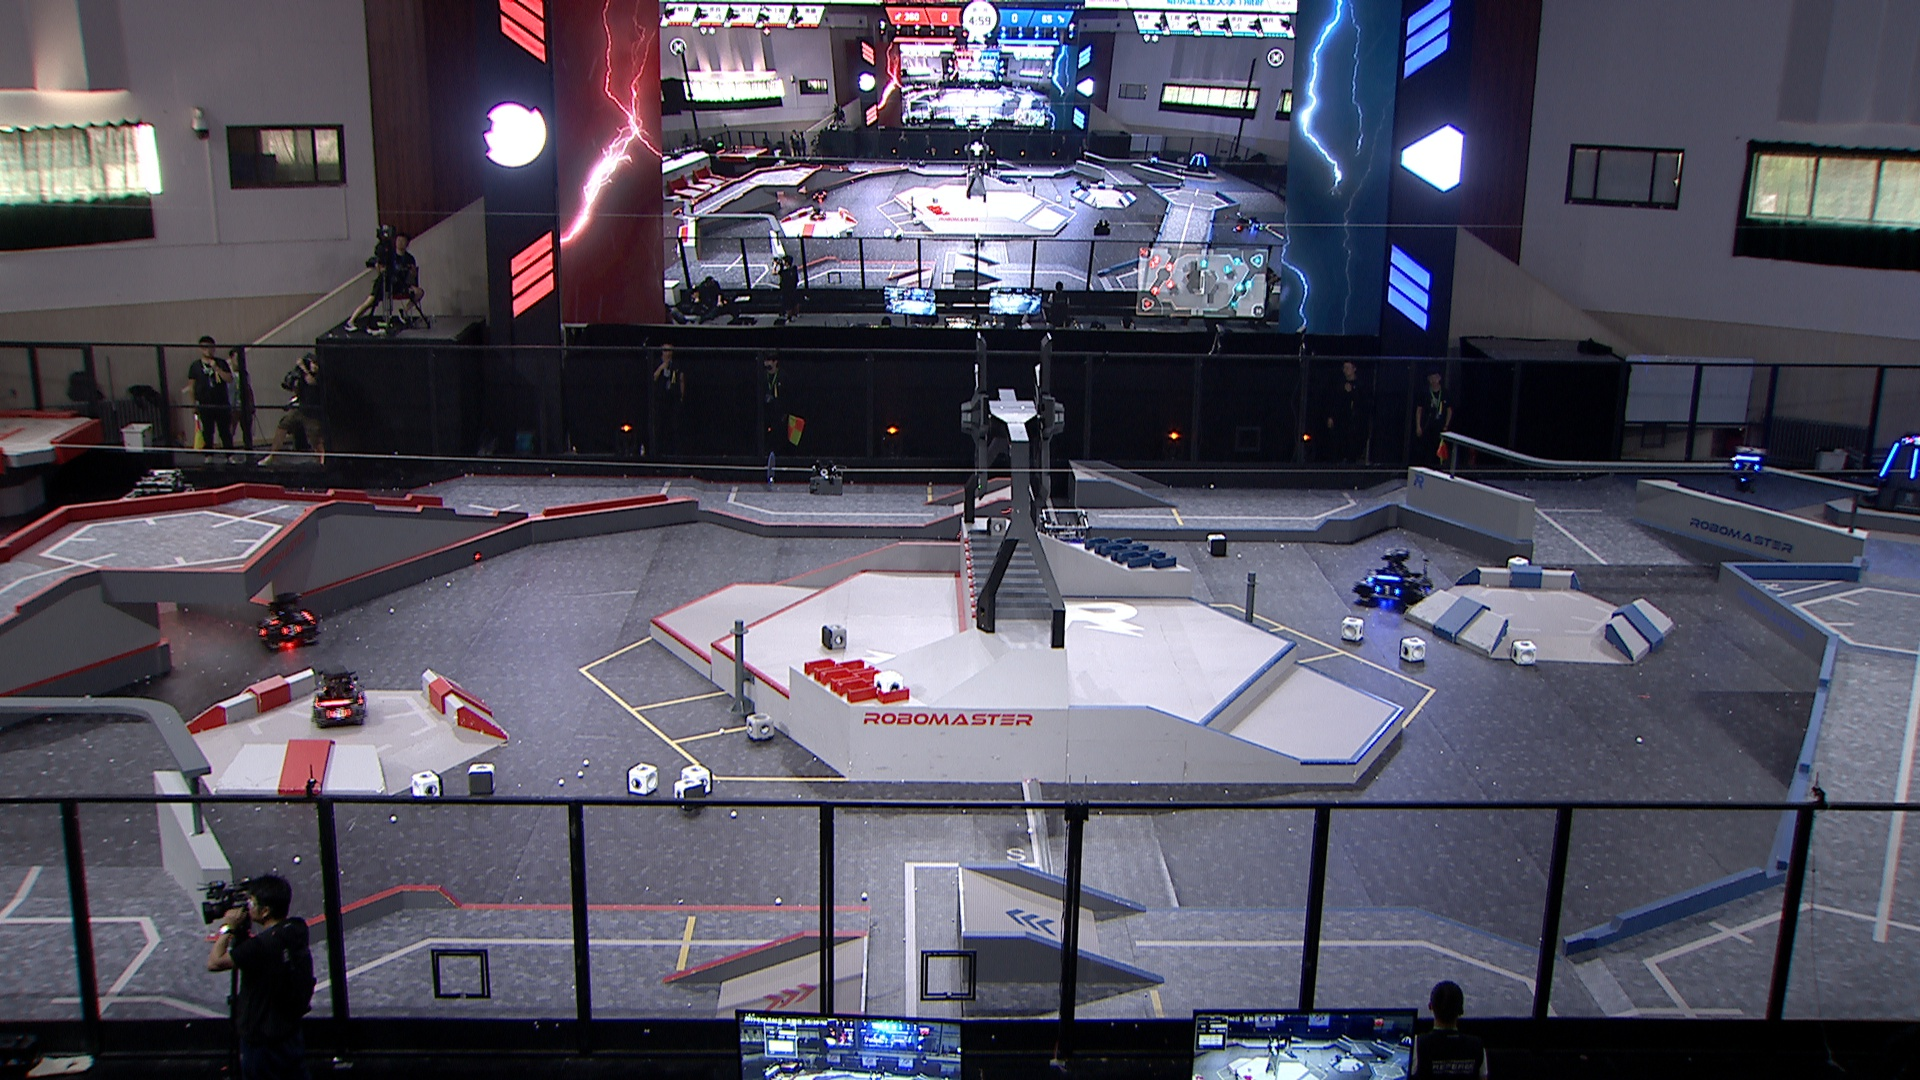armor: (1876, 442, 1899, 477), (323, 705, 353, 721), (1373, 583, 1400, 597), (1731, 462, 1762, 475), (280, 624, 305, 638), (1909, 447, 1920, 479)
base: (1858, 433, 1920, 514)
car: (117, 467, 202, 546), (1352, 547, 1432, 613), (255, 588, 324, 651), (1031, 506, 1096, 574), (310, 662, 368, 731)
ignore: (1183, 152, 1211, 174), (1232, 215, 1253, 235), (1244, 215, 1266, 233), (808, 204, 828, 220), (811, 187, 828, 200), (1903, 434, 1920, 447)
watcher: (1726, 447, 1764, 495)
